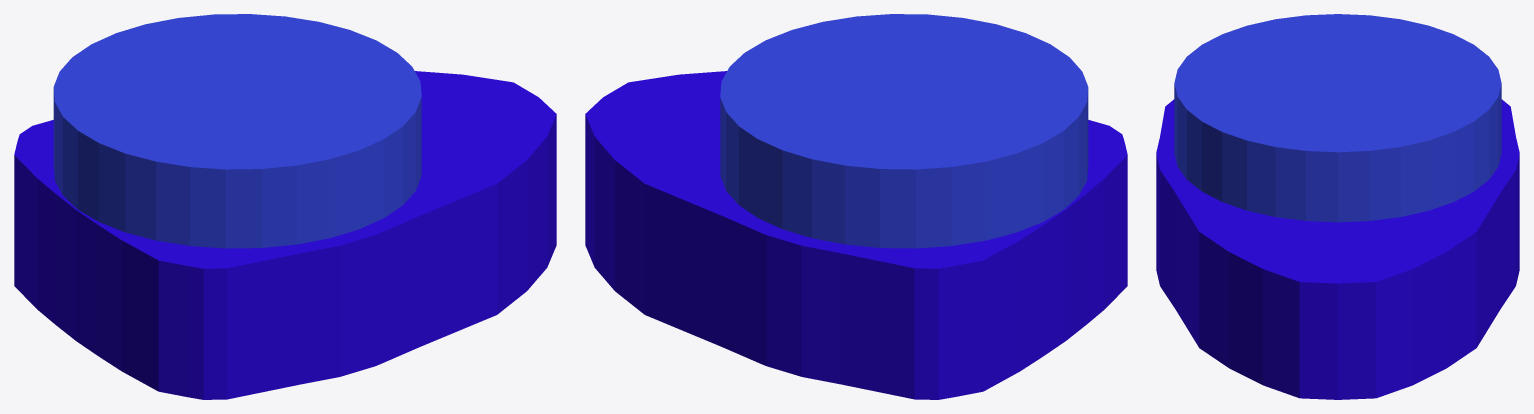
File: lds.dae
3 views of the same model, side by side, from view 1: azimuth 30°, elevation 25°; view 2: azimuth 150°, elevation 25°; view 3: azimuth 270°, elevation 25° (orthographic). The views are drawn at different scales.
Visible parts, largest first — view 1: Cylinder.001, Cylinder; view 2: Cylinder.001, Cylinder; view 3: Cylinder.001, Cylinder.
Boxes of the visible parts, box(x1,y1,x2,y2) form: Cylinder.001: box(14, 71, 556, 399); Cylinder: box(53, 14, 421, 248); Cylinder.001: box(585, 71, 1127, 399); Cylinder: box(720, 14, 1088, 248); Cylinder.001: box(1156, 99, 1519, 399); Cylinder: box(1174, 14, 1501, 222).
Bounding box in the file's own units: 94.7 × 72.68 × 41.12.
